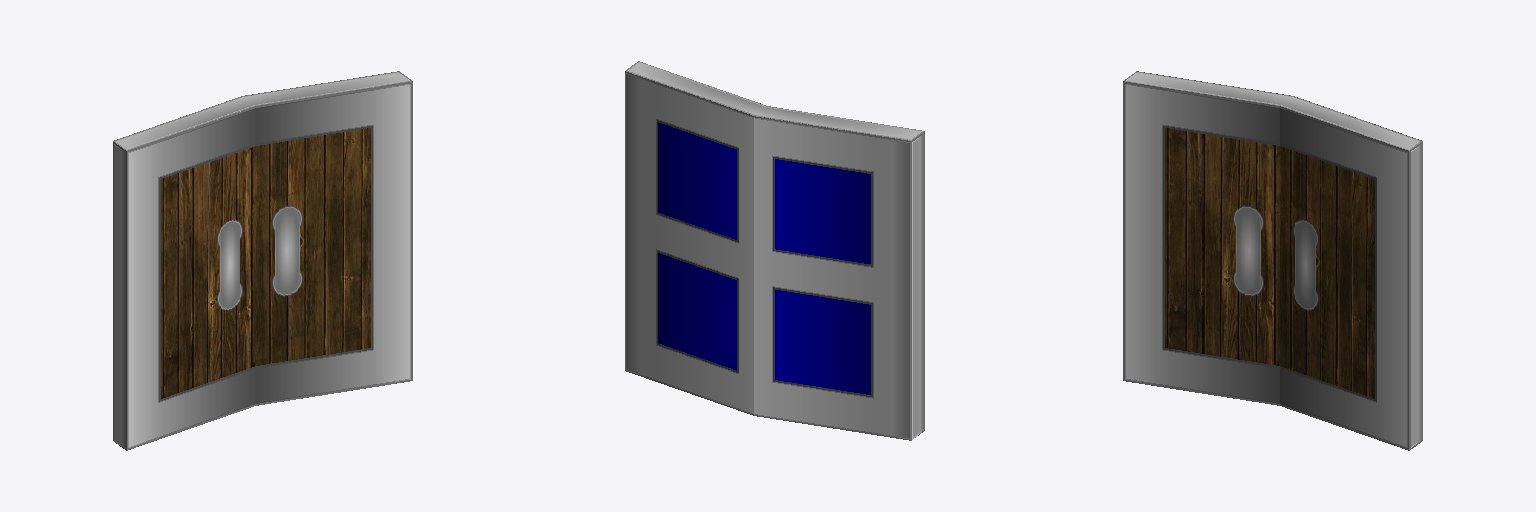
3 renders of one model, left to right at view 1: azimuth 30°, elevation 25°; view 2: azimuth 150°, elevation 25°; view 3: azimuth 330°, elevation 25°, orthographic.
Bounding box in the file's own units: 3 × 3 × 0.5.
Materials: 1 (1 with a texture image).